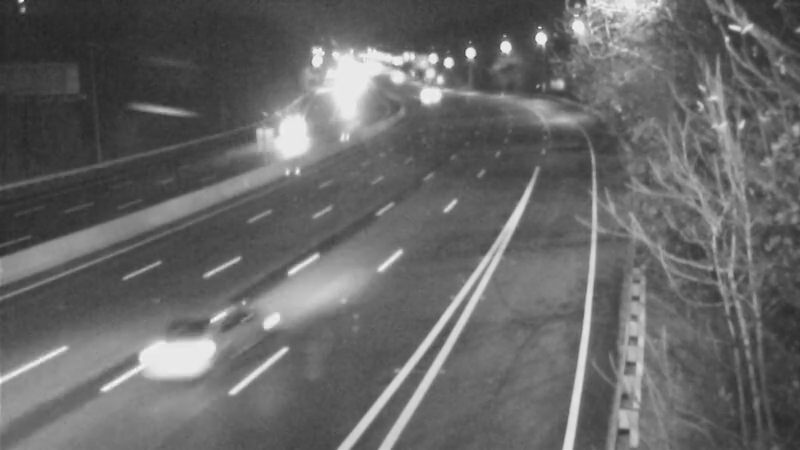vehicle: (126, 296, 236, 406), (371, 53, 421, 103), (395, 64, 445, 114), (269, 107, 319, 157)
